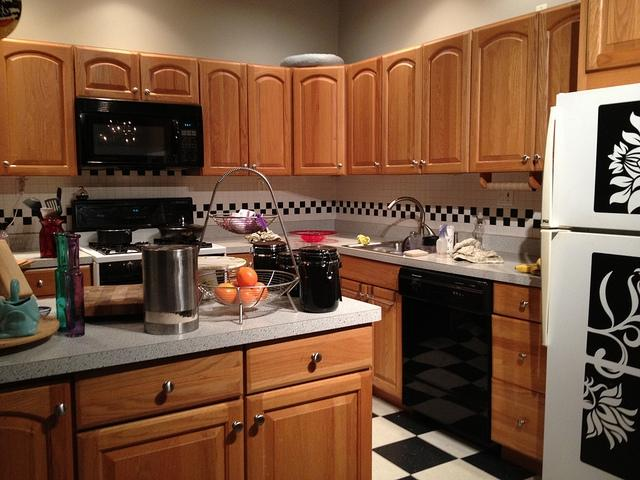banana: (514, 263, 536, 273), (530, 266, 540, 276)
orange: (214, 282, 237, 304), (236, 266, 258, 286), (234, 288, 254, 307), (252, 282, 268, 303)
